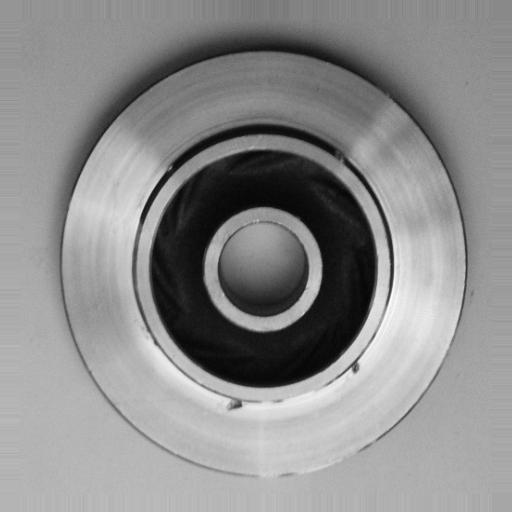crack: (218, 386, 271, 422), (334, 350, 372, 382)
scratch: (248, 441, 374, 494)
unpolished_casting: (55, 46, 470, 485)
